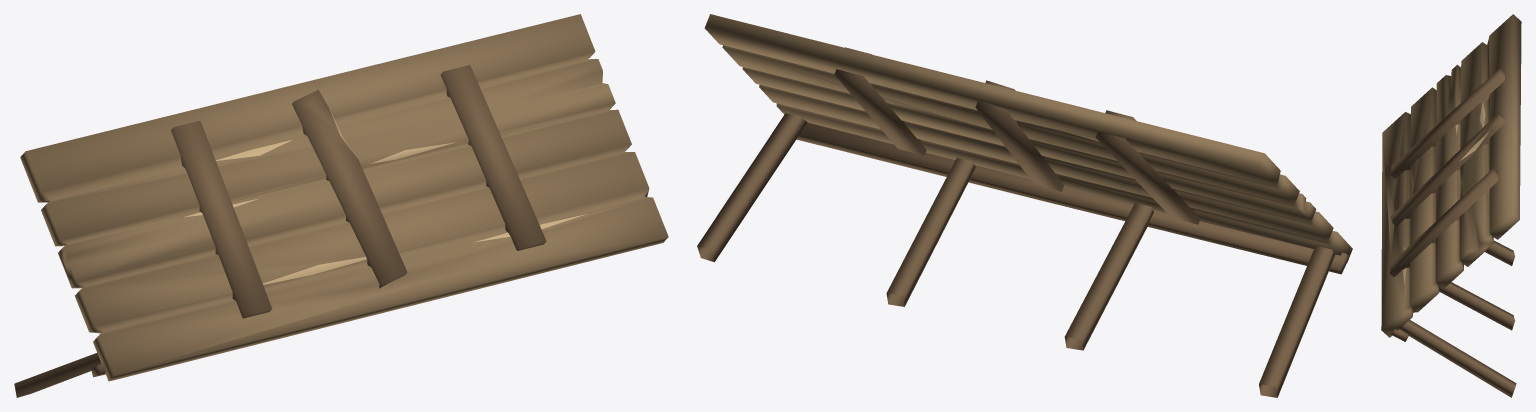
File: rpgpp_ag_window_02_shutter_a.fbx
The picture shows the model from 3 angles, left to right: view 1: azimuth 30°, elevation 25°; view 2: azimuth 150°, elevation 25°; view 3: azimuth 270°, elevation 25°; orthographic projection. The views are drawn at different scales.
Visible parts, largest first — view 1: rpgpp_ag_window_02_shutter_a; view 2: rpgpp_ag_window_02_shutter_a; view 3: rpgpp_ag_window_02_shutter_a.
Part boxes in pixels (x1,y1,x2,y2): rpgpp_ag_window_02_shutter_a: (14,14,668,397); rpgpp_ag_window_02_shutter_a: (697,14,1352,397); rpgpp_ag_window_02_shutter_a: (1381,14,1521,397).
Size of the model in its own units: 2.82 by 1.15 by 0.7996.
